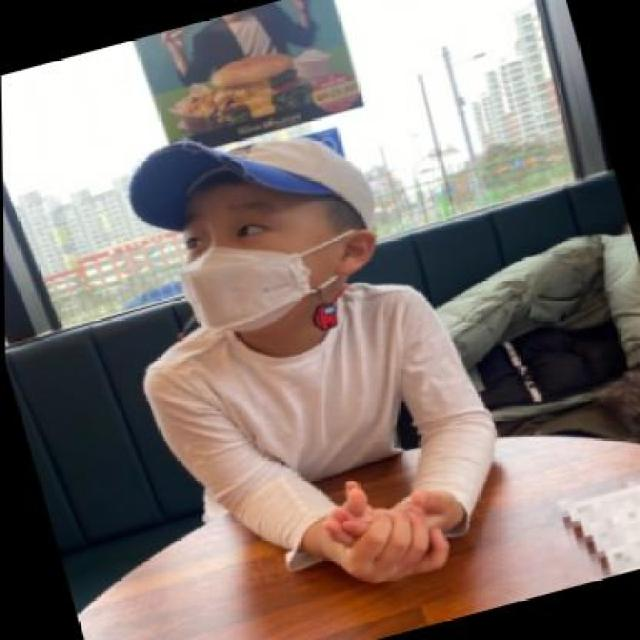hat: (128, 138, 372, 231)
